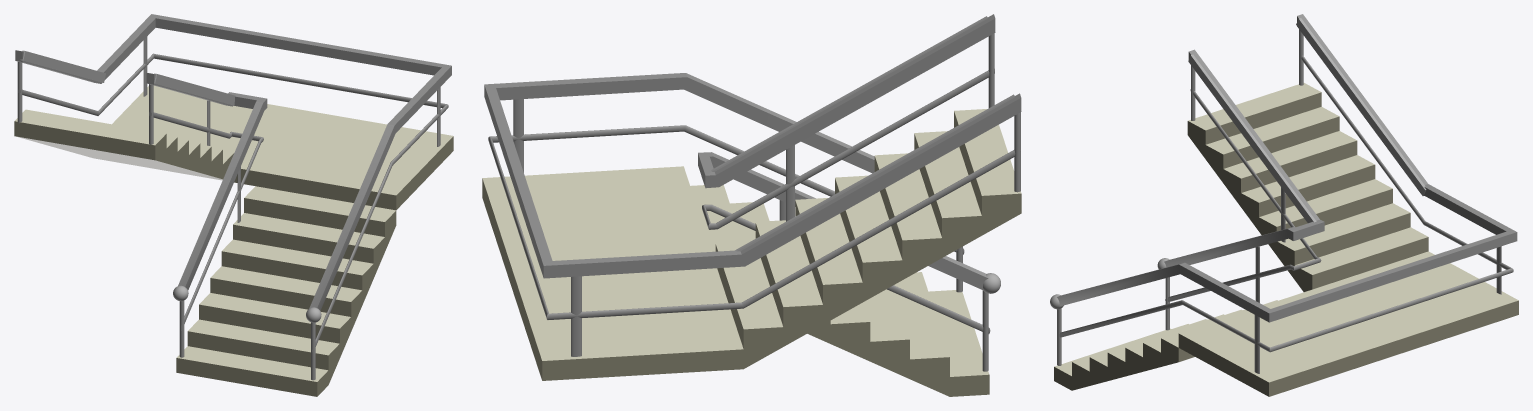
3 views of the same model, side by side, from view 1: azimuth 30°, elevation 25°; view 2: azimuth 150°, elevation 25°; view 3: azimuth 270°, elevation 25° (orthographic). The views are drawn at different scales.
Visible parts, largest first — view 1: UTypeStair001, Railing001, Railing002, Box002, Box001; view 2: UTypeStair001, Railing001, Railing002, Box002, Box001; view 3: UTypeStair001, Railing001, Railing002, Box002, Box001.
Boxes of the visible parts, x1,y1,x2,y2 form: UTypeStair001: (14,85,453,396); Railing001: (15,14,451,380); Railing002: (146,73,267,357); Box002: (20,50,105,82); Box001: (154,73,235,105); UTypeStair001: (482,109,1021,396); Railing001: (484,73,1021,356); Railing002: (698,14,995,371); Box002: (735,94,1014,251); Box001: (711,16,987,171); UTypeStair001: (1054,83,1518,396); Railing001: (1057,14,1517,373); Railing002: (1164,49,1324,330); Box002: (1296,18,1426,195); Box001: (1188,54,1316,223).
Size of the model in its own units: 187 by 125 by 187.
3 materials, 2 textured.
